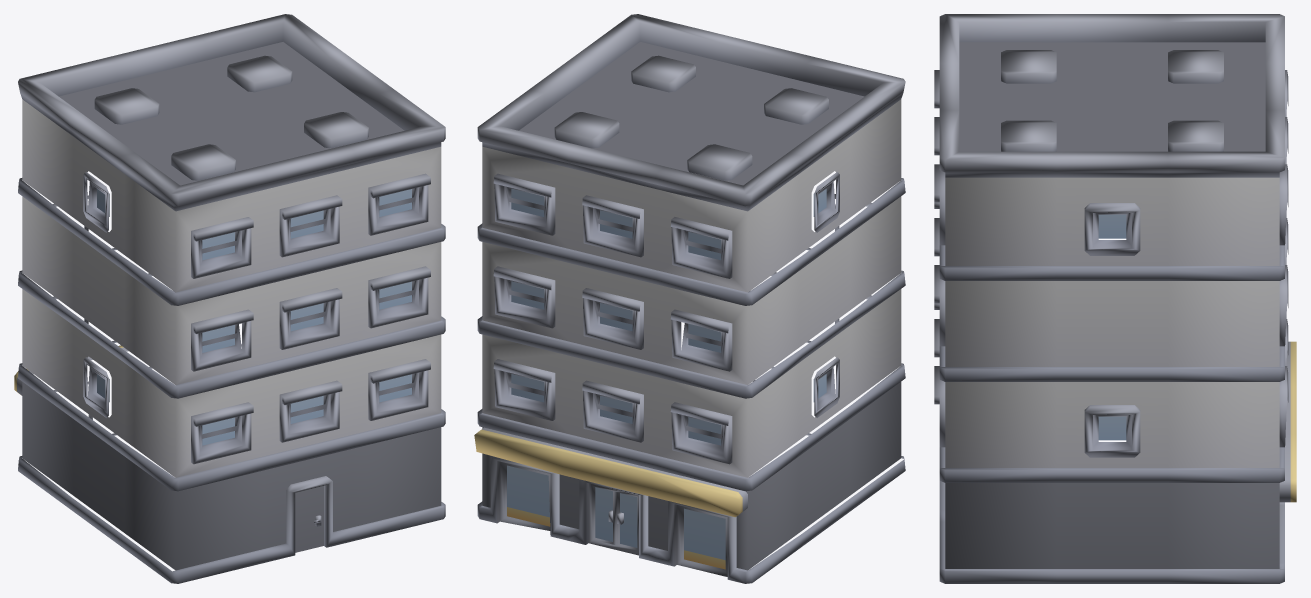
3 views of the same model, side by side, from view 1: azimuth 30°, elevation 25°; view 2: azimuth 150°, elevation 25°; view 3: azimuth 270°, elevation 25° (orthographic). The views are drawn at different scales.
Bounding box in the file's own units: 9.92 × 13.44 × 10.42.
